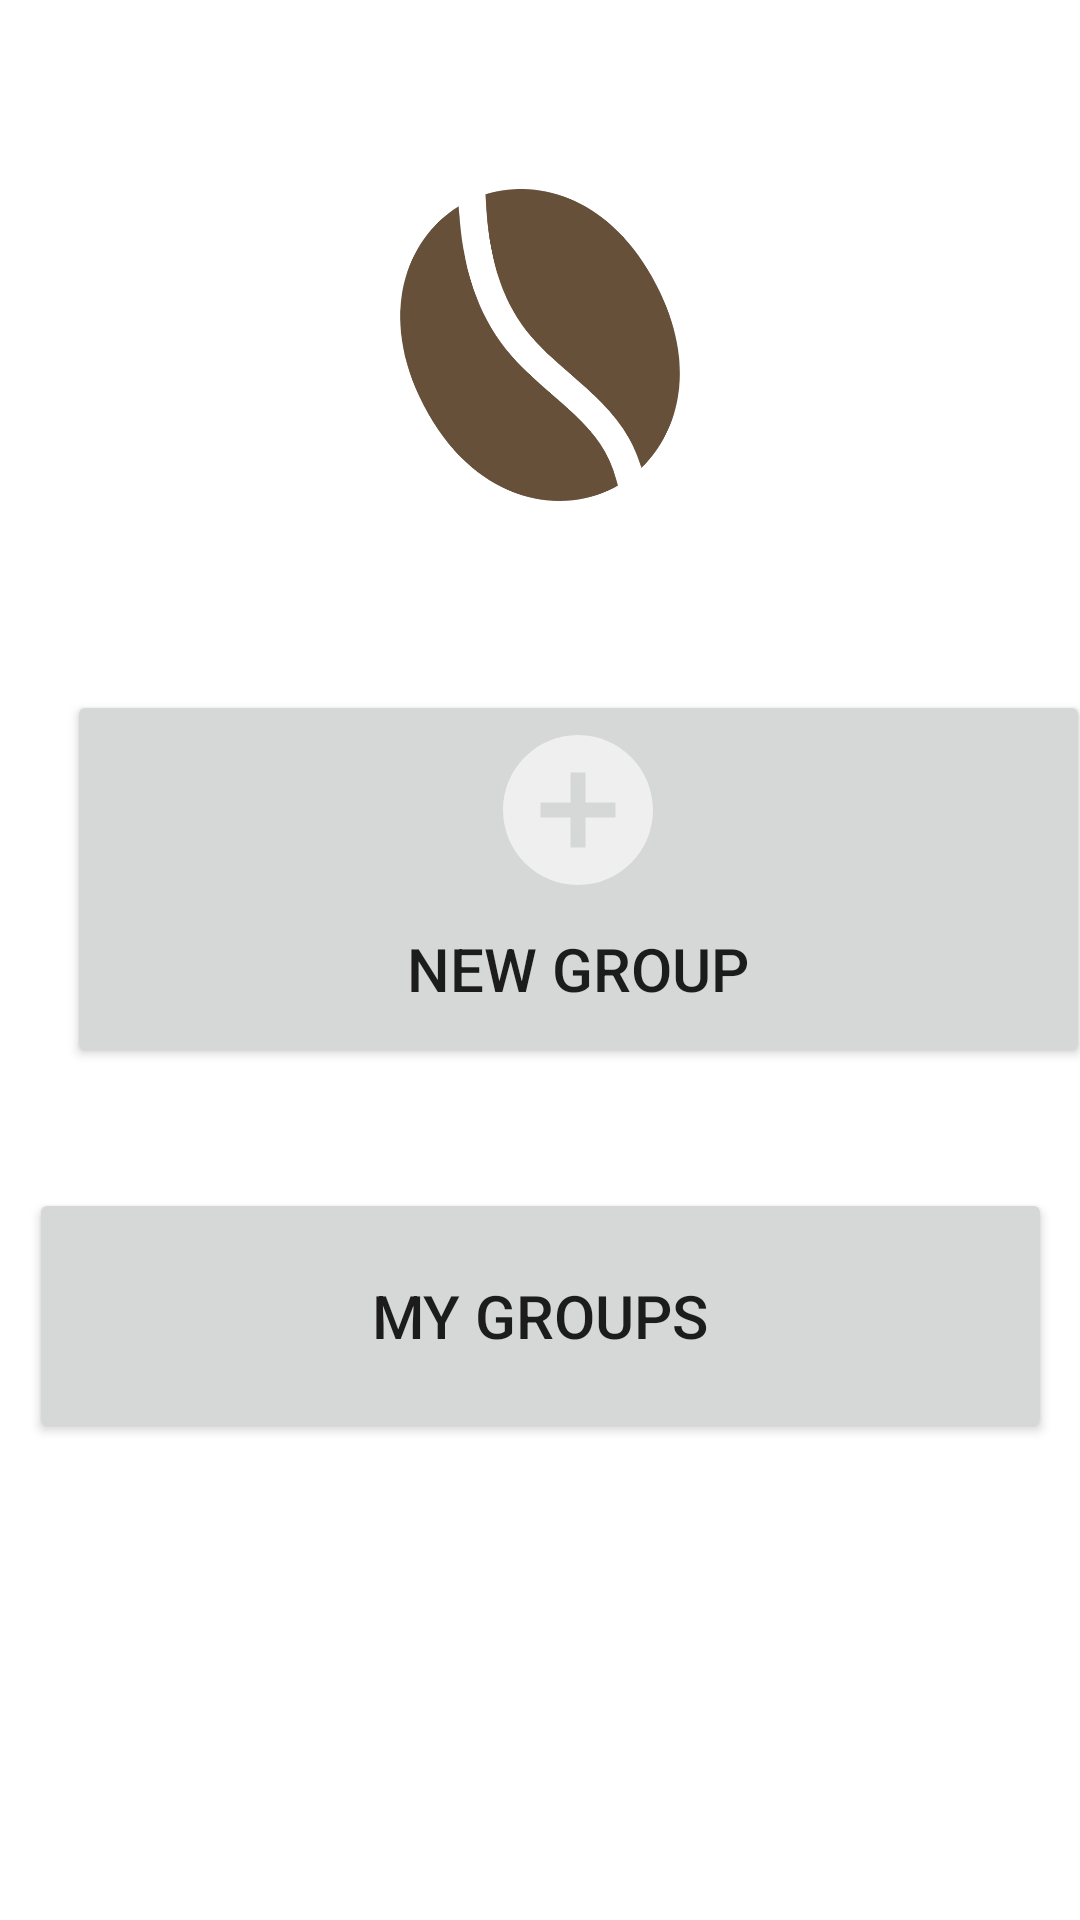

Icons on this 1080*1920 Android screen, each with the point to tap as (x=x, y=y):
coffeebean: (x=540, y=345)
